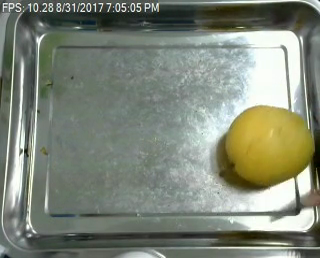Mango: (225, 106, 313, 184)
